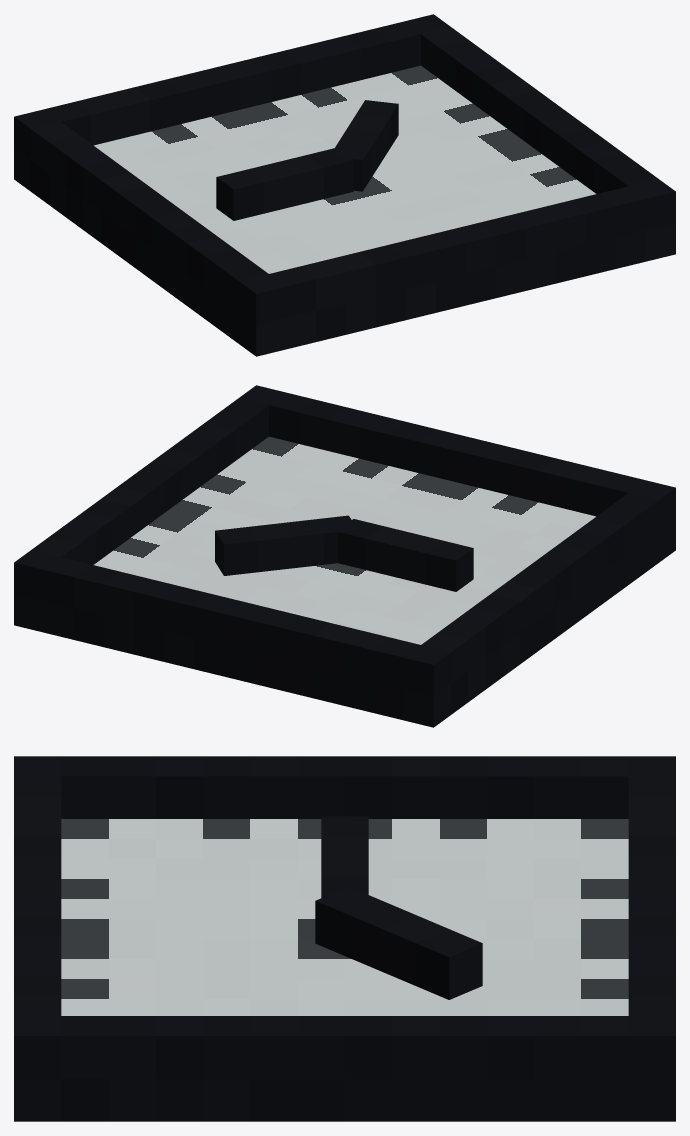
File: clock.gltf
3 views of the same model, one above another, from view 1: azimuth 30°, elevation 25°; view 2: azimuth 150°, elevation 25°; view 3: azimuth 270°, elevation 25° (orthographic). The views are drawn at different scales.
Visible parts, largest first — view 1: _gltfNode_14, _gltfNode_4, _gltfNode_10, _gltfNode_6, _gltfNode_8, _gltfNode_2, _gltfNode_0; view 2: _gltfNode_14, _gltfNode_6, _gltfNode_10, _gltfNode_4, _gltfNode_8, _gltfNode_2, _gltfNode_0; view 3: _gltfNode_14, _gltfNode_8, _gltfNode_10, _gltfNode_4, _gltfNode_6, _gltfNode_0, _gltfNode_2.
Boxes of the visible parts, x1,y1,x2,y2 form: _gltfNode_14: [94, 65, 595, 273]; _gltfNode_4: [269, 186, 645, 349]; _gltfNode_10: [14, 109, 286, 356]; _gltfNode_6: [44, 21, 420, 145]; _gltfNode_8: [404, 14, 675, 261]; _gltfNode_2: [216, 148, 353, 220]; _gltfNode_0: [329, 100, 398, 191]; _gltfNode_14: [94, 436, 595, 644]; _gltfNode_6: [44, 557, 420, 720]; _gltfNode_10: [403, 480, 675, 727]; _gltfNode_4: [269, 392, 645, 516]; _gltfNode_8: [14, 385, 285, 632]; _gltfNode_2: [338, 519, 473, 591]; _gltfNode_0: [215, 515, 357, 575]; _gltfNode_14: [61, 819, 628, 1015]; _gltfNode_8: [14, 1016, 675, 1121]; _gltfNode_10: [14, 756, 675, 818]; _gltfNode_4: [14, 776, 61, 1015]; _gltfNode_6: [628, 776, 675, 1015]; _gltfNode_0: [315, 886, 482, 999]; _gltfNode_2: [321, 816, 368, 897].
Bounding box in the file's own units: 14 × 2 × 14.
Materials: 2 (2 with a texture image).
